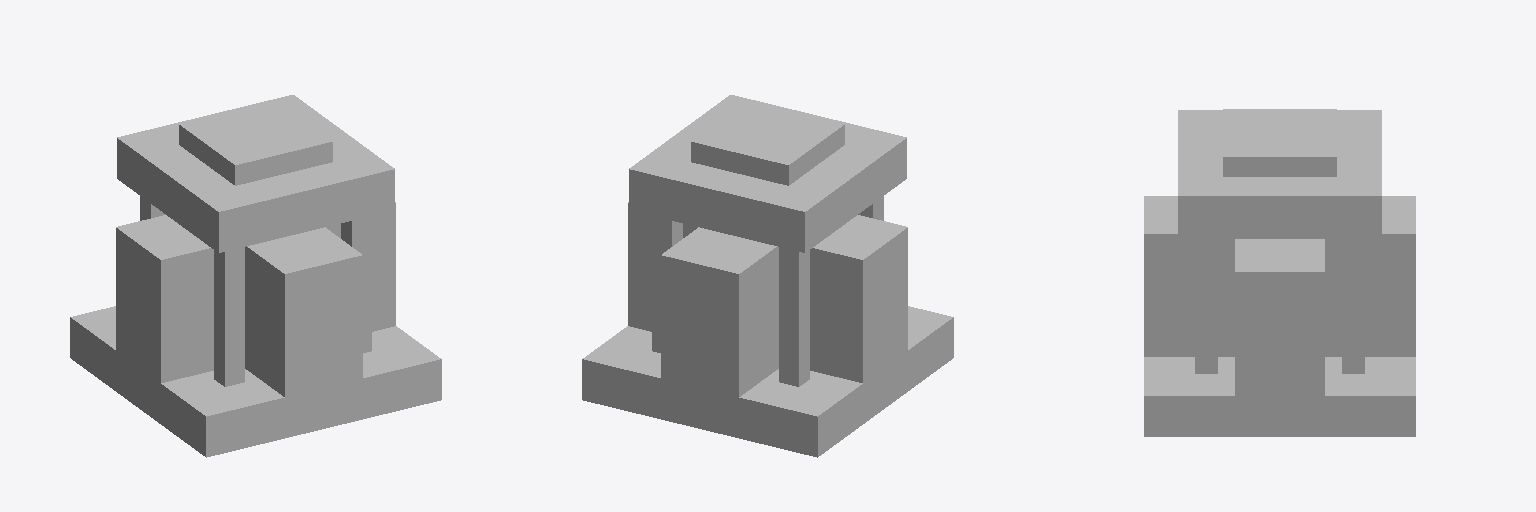
The model's file is lightningrod.obj.
3 views of the same model, side by side, from view 1: azimuth 30°, elevation 25°; view 2: azimuth 150°, elevation 25°; view 3: azimuth 270°, elevation 25° (orthographic).
Parts seen in each view (by area): view 1: cube; view 2: cube; view 3: cube.
Part boxes in pixels (left/top/right/bottom): cube: left=70, top=95, right=441, bottom=457; cube: left=582, top=95, right=953, bottom=457; cube: left=1144, top=109, right=1415, bottom=436.
Size of the model in its own units: 3 by 3 by 3.